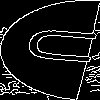U: (24, 25, 100, 68)
